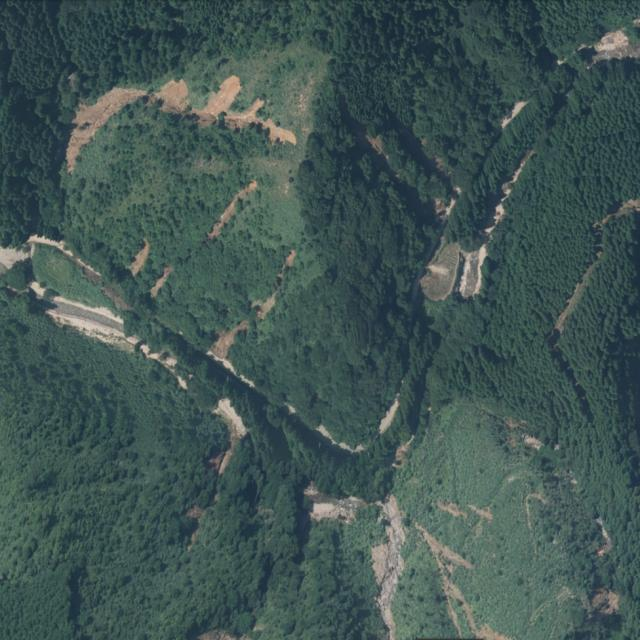landslide: (66, 75, 296, 172), (372, 495, 406, 640)
